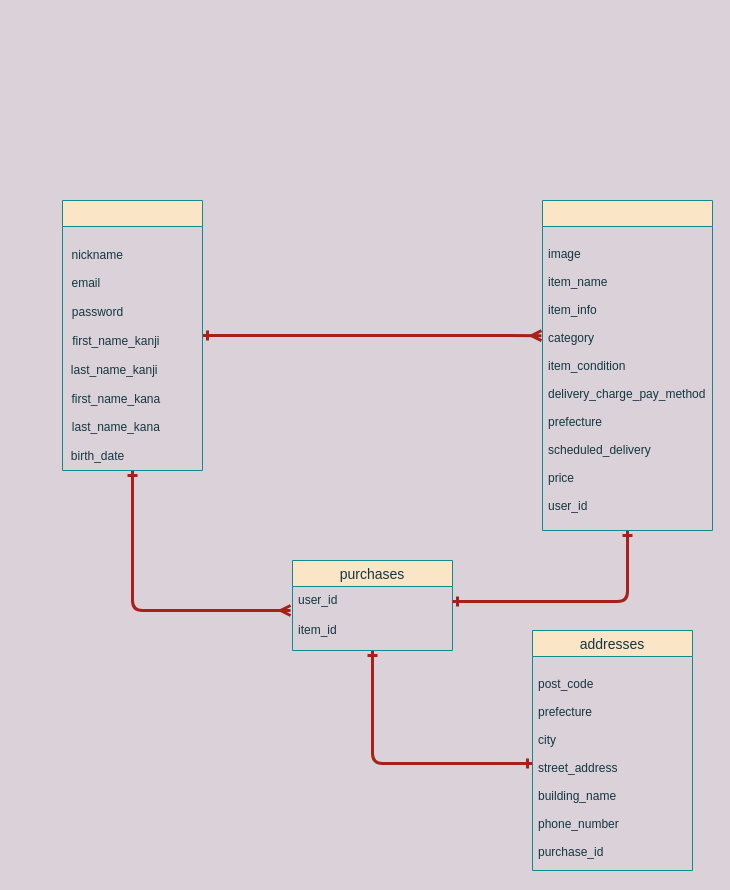
This 730x890 diagram has some shape labels left out. The shapes that lost their labels are listed below. From the top down, each one's box as (x1, y1, x2, y2) in pixels, then its label:
(62, 200, 202, 470): users
(542, 200, 712, 530): items
